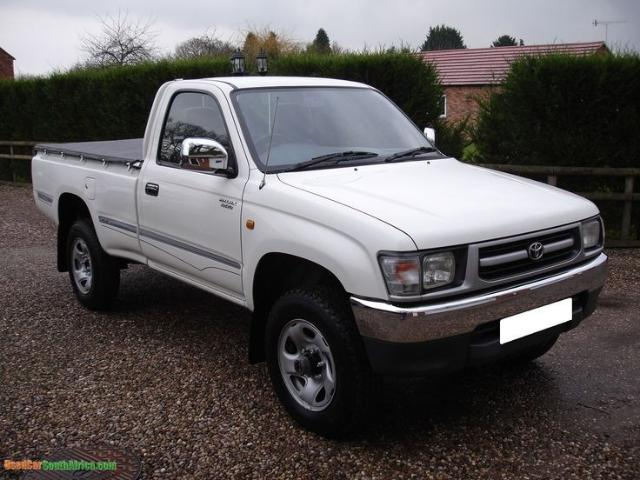pickup-truck: (30, 73, 610, 438)
